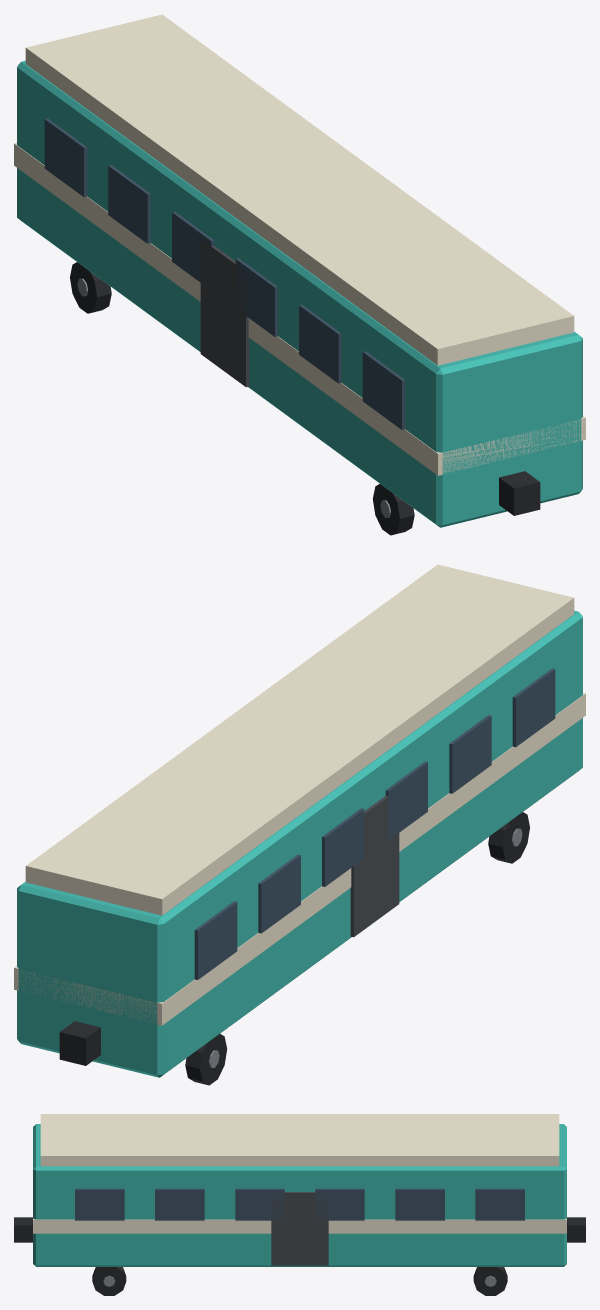
Rendered from vehicle.train-passenger.glb.
3 renders of one model, top to bottom at view 1: azimuth 30°, elevation 25°; view 2: azimuth 150°, elevation 25°; view 3: azimuth 270°, elevation 25°, orthographic. The views are drawn at different scales.
Visible parts, largest first — view 1: vehicle.train-passenger; view 2: vehicle.train-passenger; view 3: vehicle.train-passenger.
Boxes of the visible parts, x1,y1,x2,y2 form: vehicle.train-passenger: [14, 14, 585, 535]; vehicle.train-passenger: [14, 564, 585, 1085]; vehicle.train-passenger: [14, 1114, 585, 1295].
Size of the model in its own units: 2.92 by 4.08 by 15.
